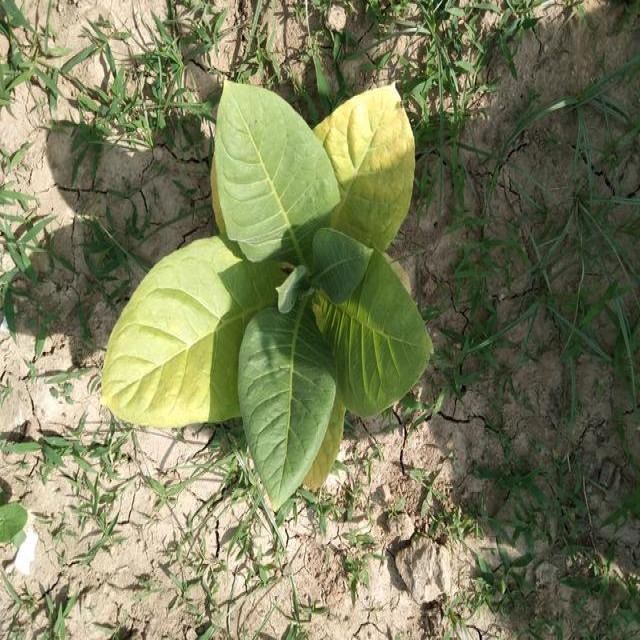crop: (102, 70, 437, 504)
